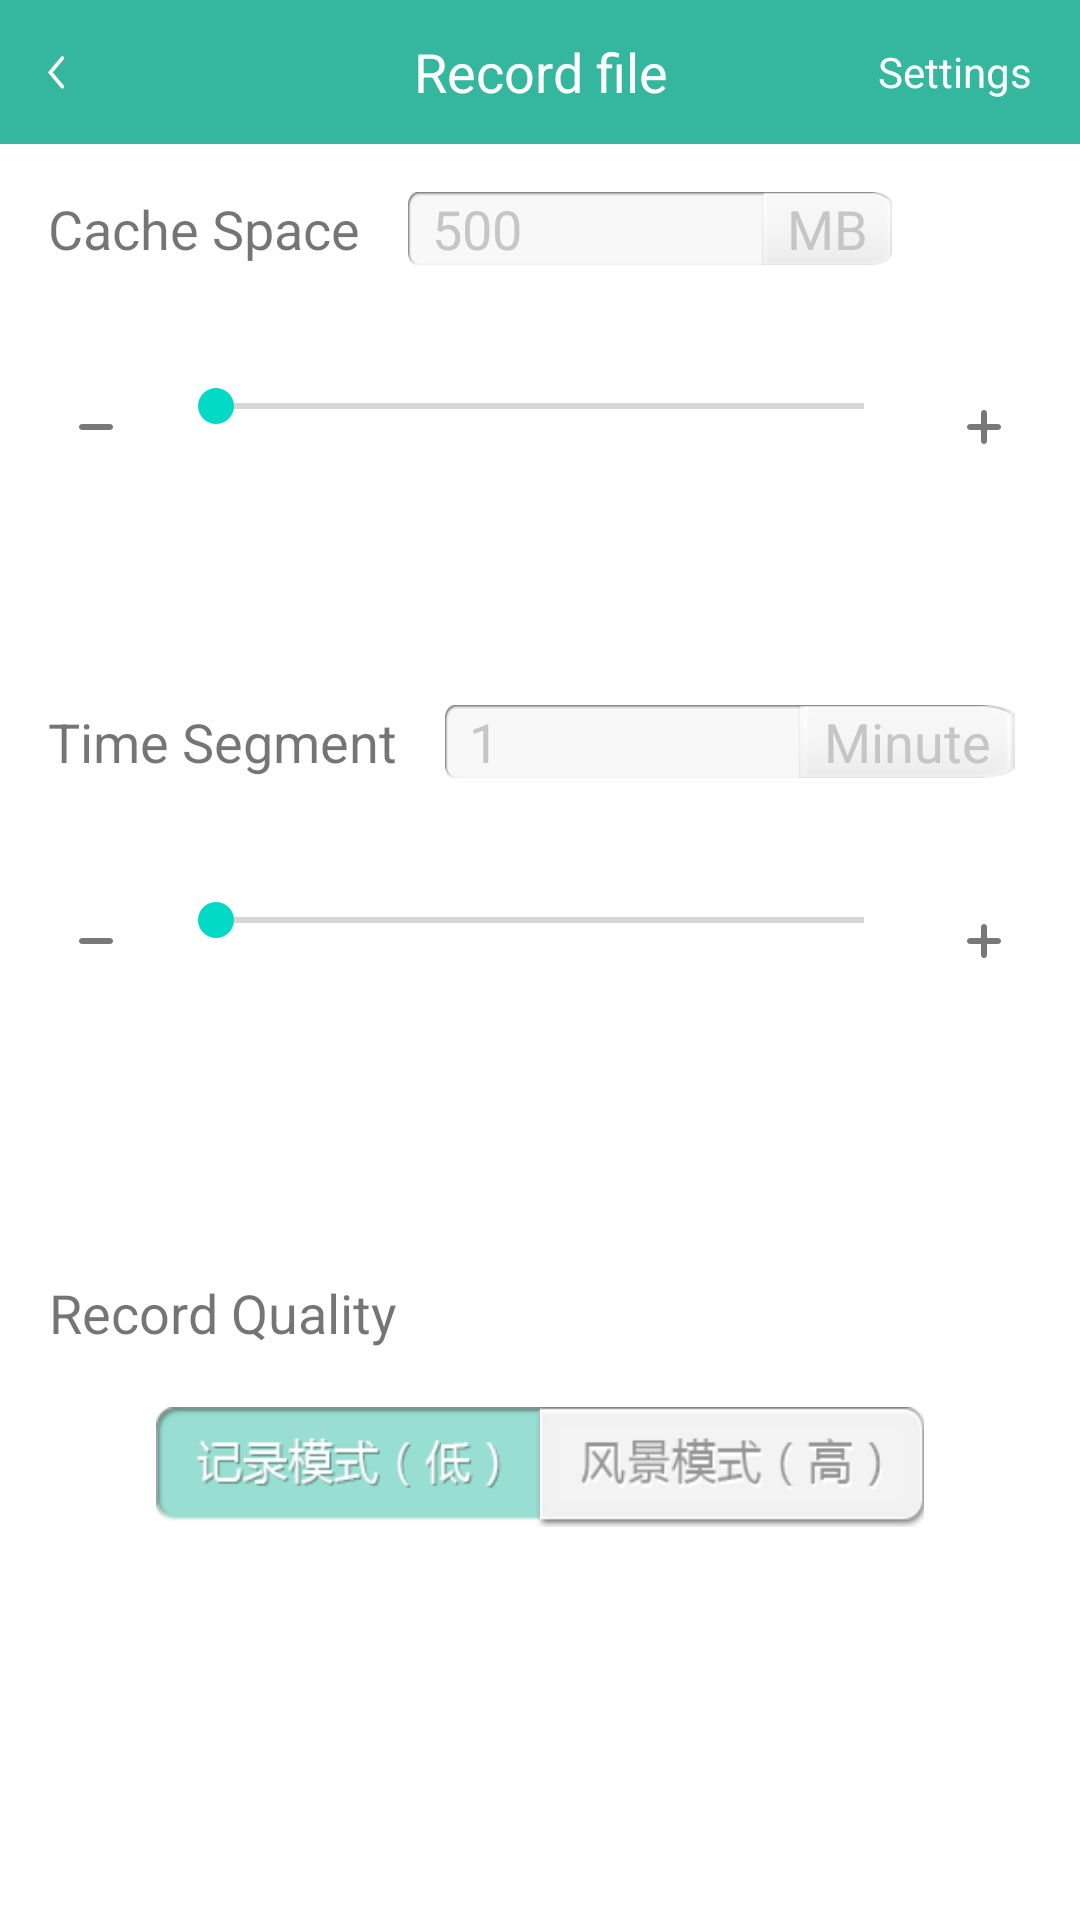

Locate icon controls on the screen. Image size 1080w x 1920h, boxes as detection(x1, y1, x2, y2).
back: detection(48, 56, 64, 89)
increase: detection(967, 410, 1001, 444), detection(967, 924, 1001, 958)
reduce: detection(79, 424, 113, 430), detection(79, 938, 113, 944)
